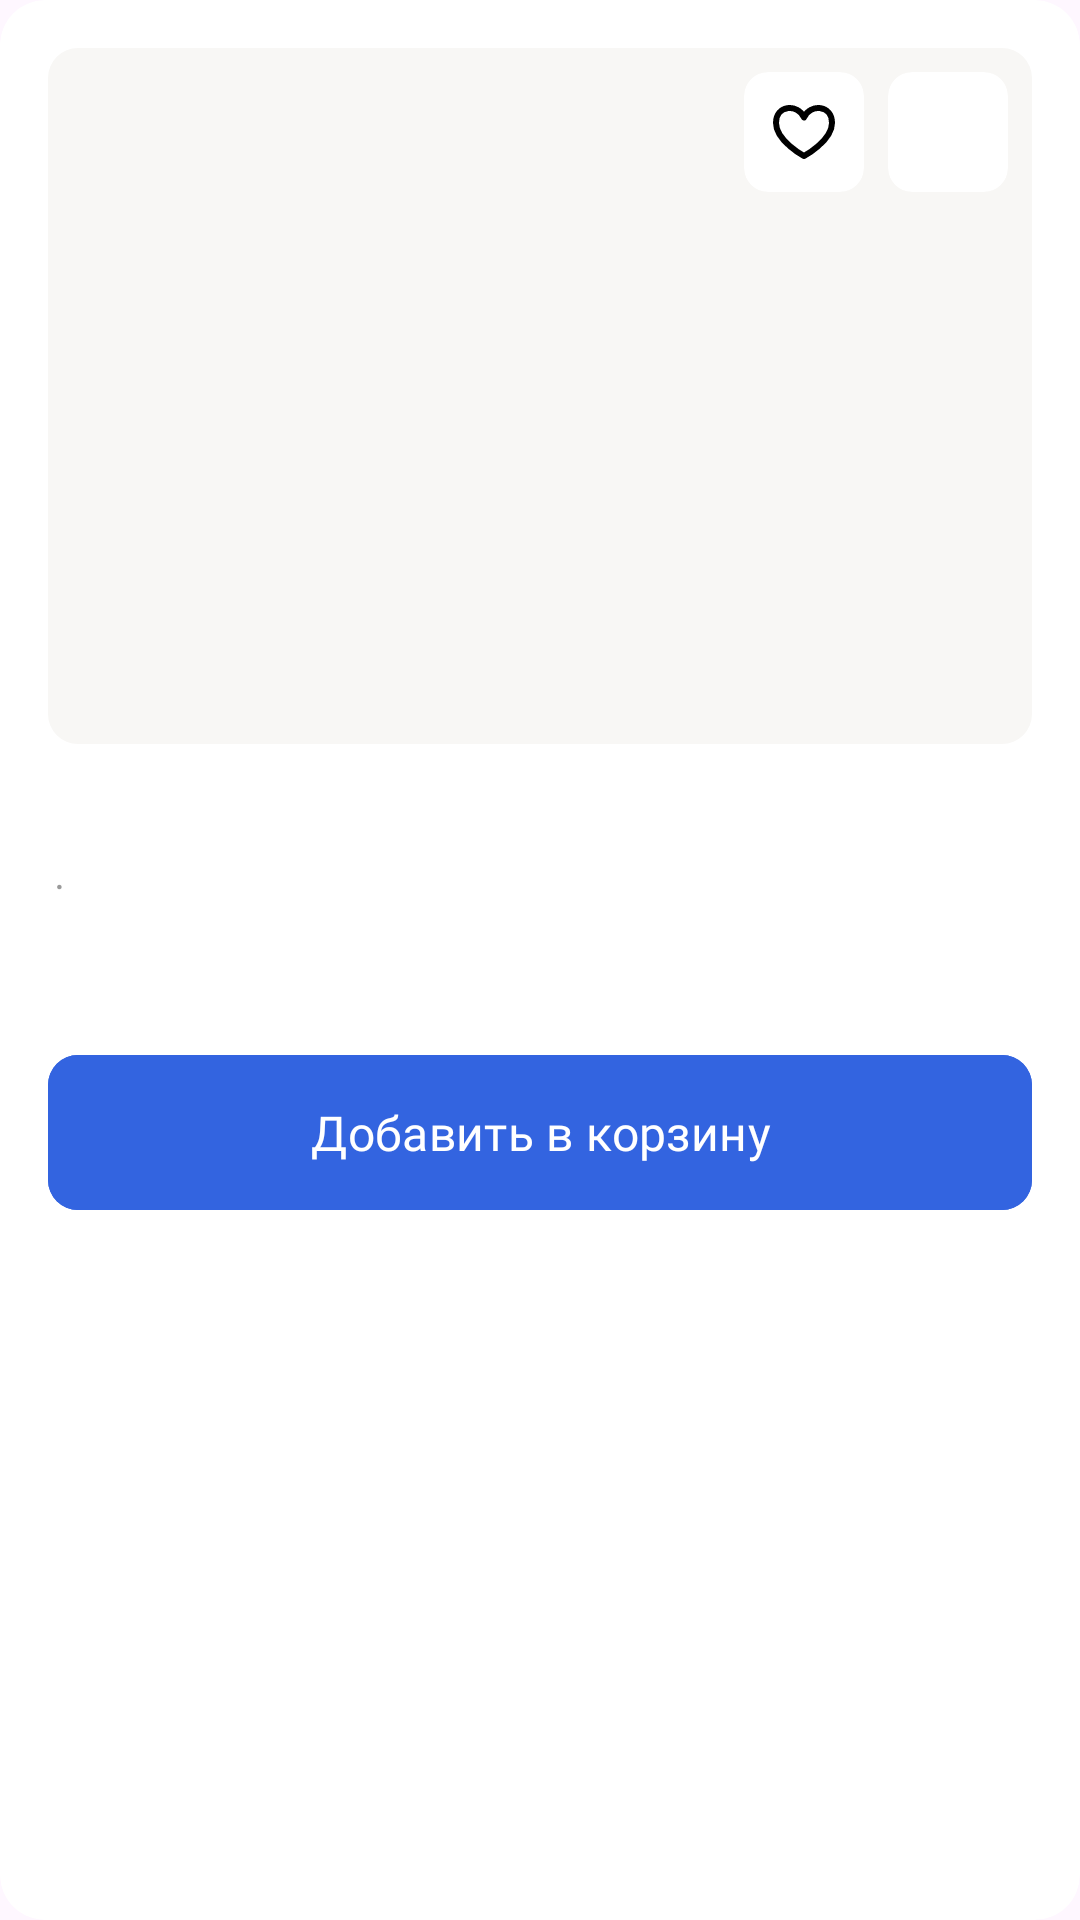

Locate icon controls on the screen. Image size 1080 x 1920, boxes as region(x1, y1, x2, y2).
like: region(773, 105, 835, 159)
